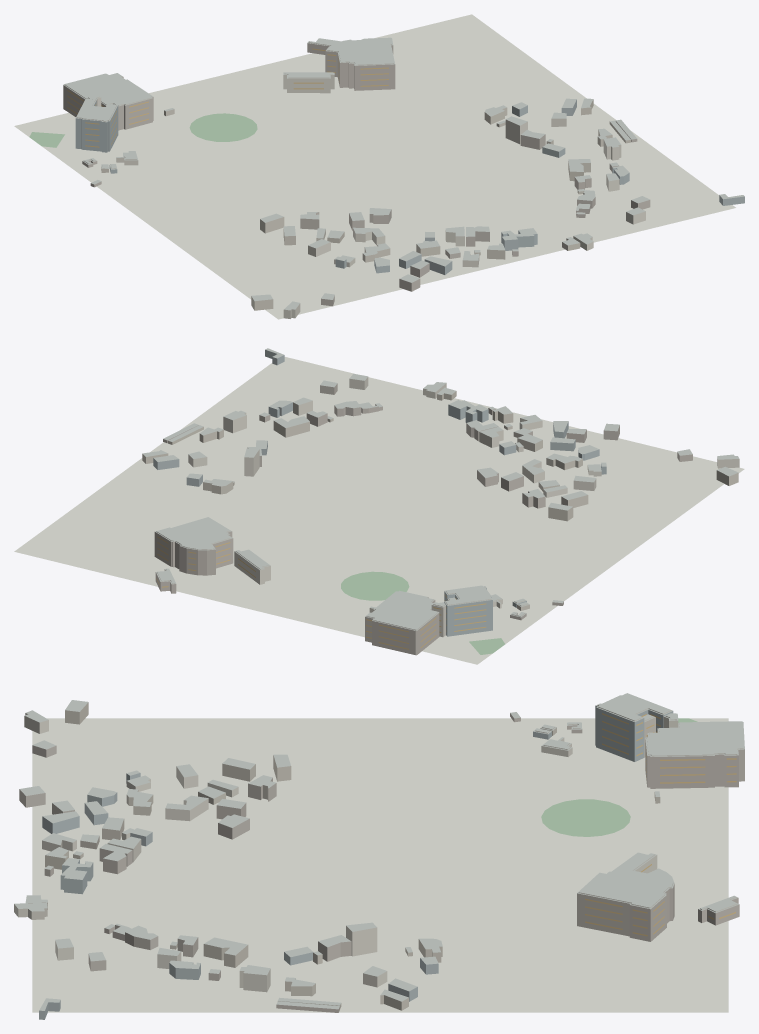
The picture shows the model from 3 angles, top to bottom: view 1: azimuth 30°, elevation 25°; view 2: azimuth 150°, elevation 25°; view 3: azimuth 270°, elevation 25°; orthographic projection. The views are drawn at different scales.
Visible parts, largest first — view 1: city; view 2: city; view 3: city.
Boxes of the visible parts, <box> form: city: <box>14,14,744,319</box>; city: <box>14,348,744,664</box>; city: <box>14,693,744,1019</box>.
Size of the model in its own units: 522 by 32.3 by 525.
